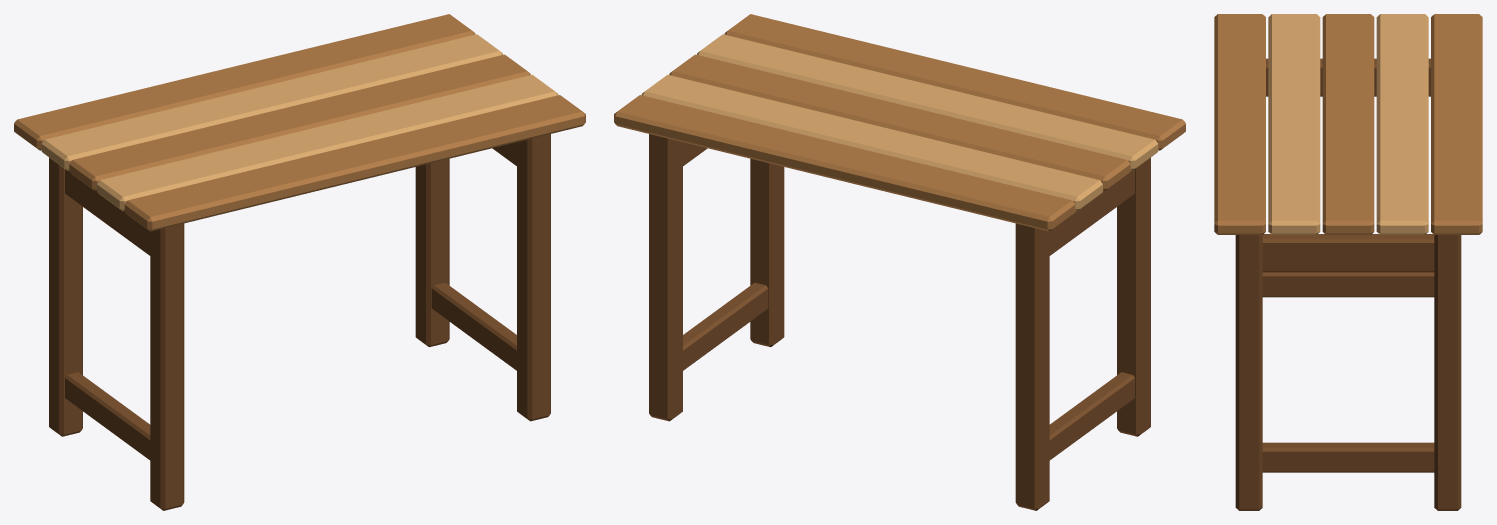
File: SM_Camp_Table.glb
The picture shows the model from 3 angles, left to right: view 1: azimuth 30°, elevation 25°; view 2: azimuth 150°, elevation 25°; view 3: azimuth 270°, elevation 25°; orthographic projection. The views are drawn at different scales.
Parts seen in each view (by area): view 1: SM_Camp_Table; view 2: SM_Camp_Table; view 3: SM_Camp_Table.
Boxes of the visible parts, box(x1,y1,x2,y2) form: SM_Camp_Table: box(14, 14, 585, 510); SM_Camp_Table: box(614, 14, 1185, 510); SM_Camp_Table: box(1214, 14, 1482, 510).
Size of the model in its own units: 1.1 by 0.7375 by 0.595.
1 material, 1 textured.
